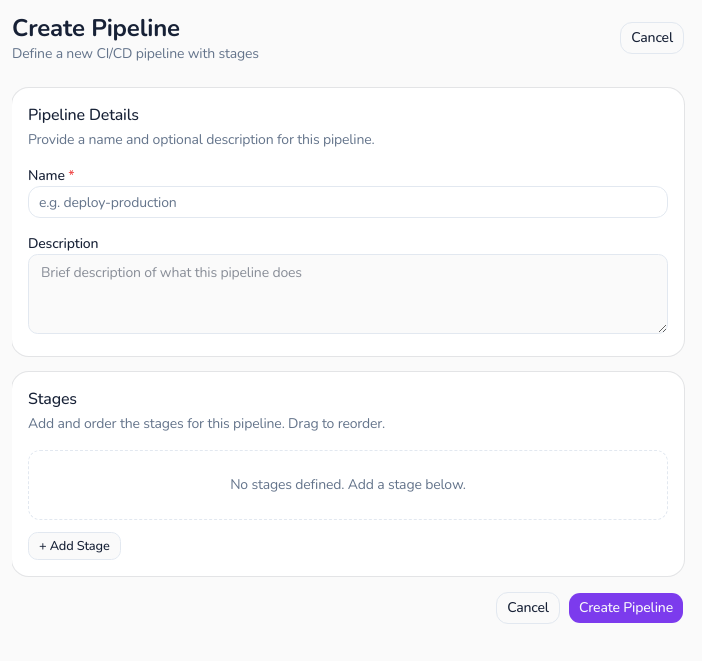
PipelineFormClient › shows validation error when name is empty on submit
Click the button "Create Pipeline" at (626, 608), box [568, 592, 684, 624]
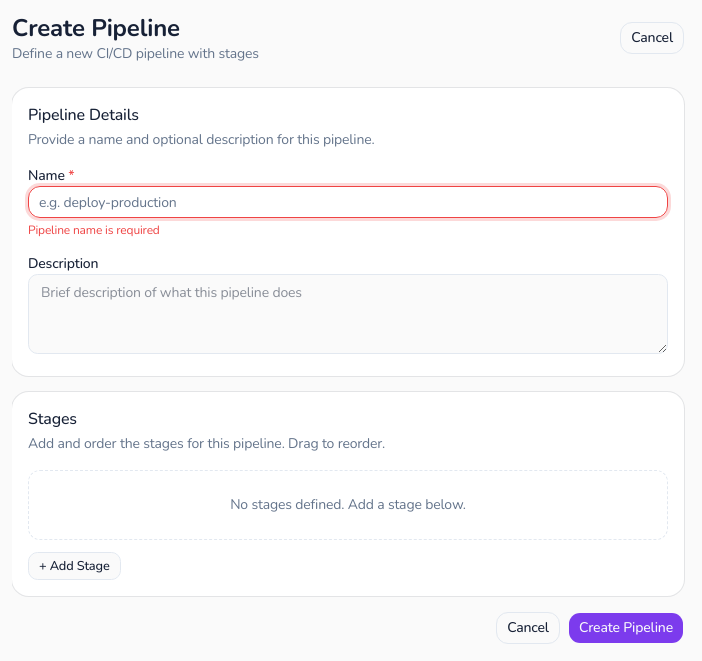
Result: the text "Pipeline name is required" is shown at [28, 222, 160, 238]
